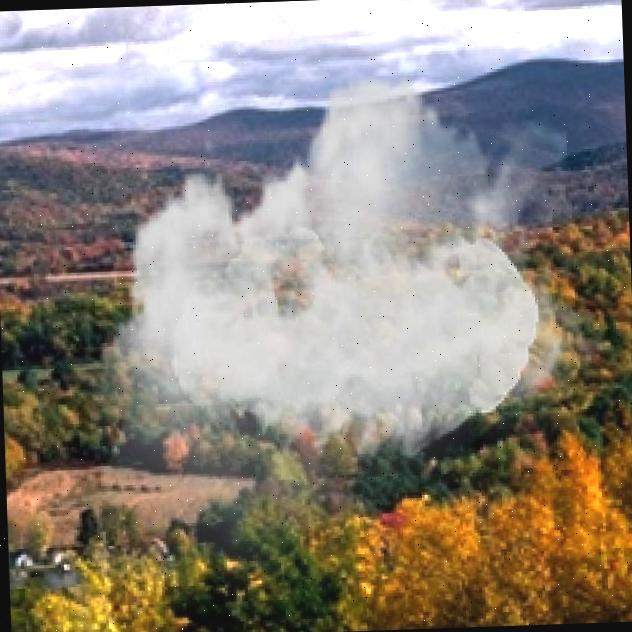smoke: (78, 45, 617, 629)
